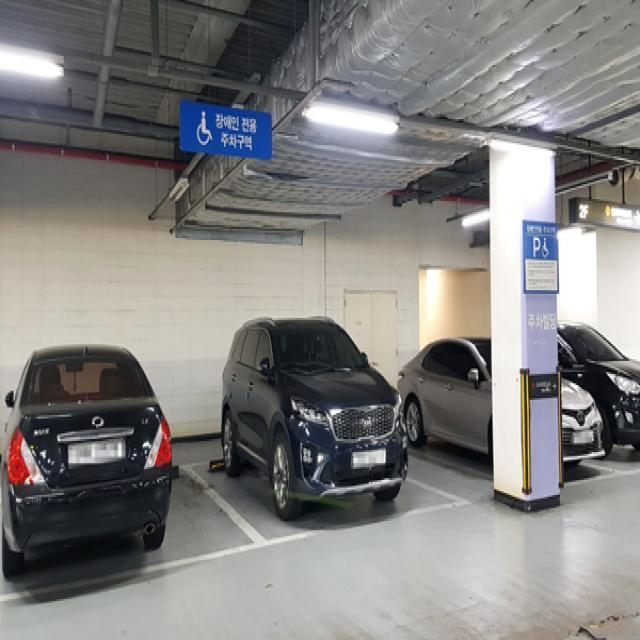Car: (204, 303, 447, 516), (0, 324, 187, 566), (413, 303, 613, 466)
